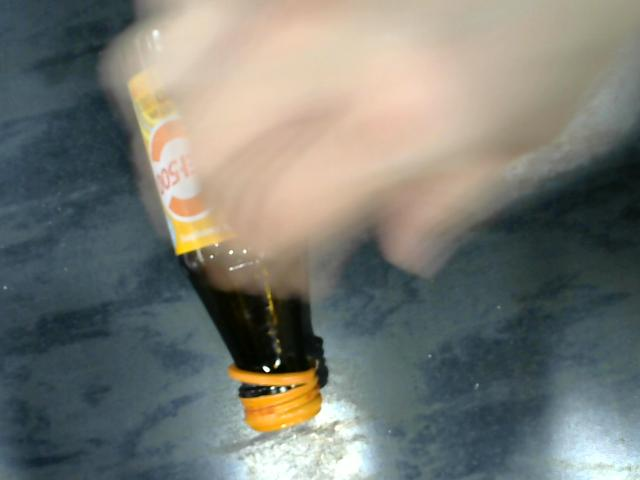glass: (116, 39, 349, 430)
